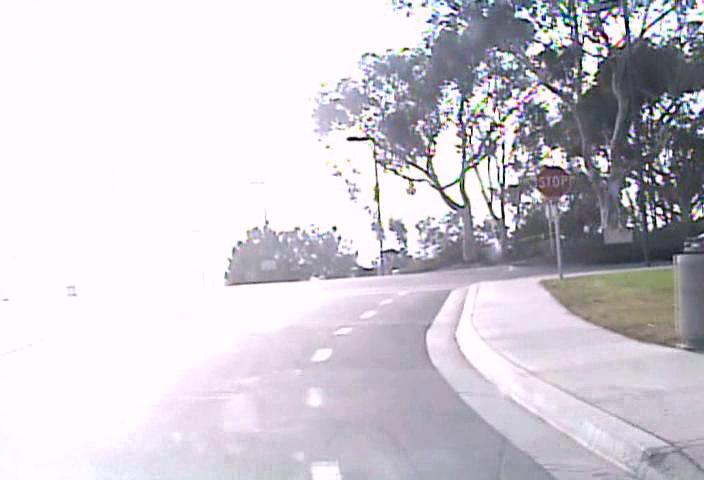stop: (536, 165, 570, 198)
